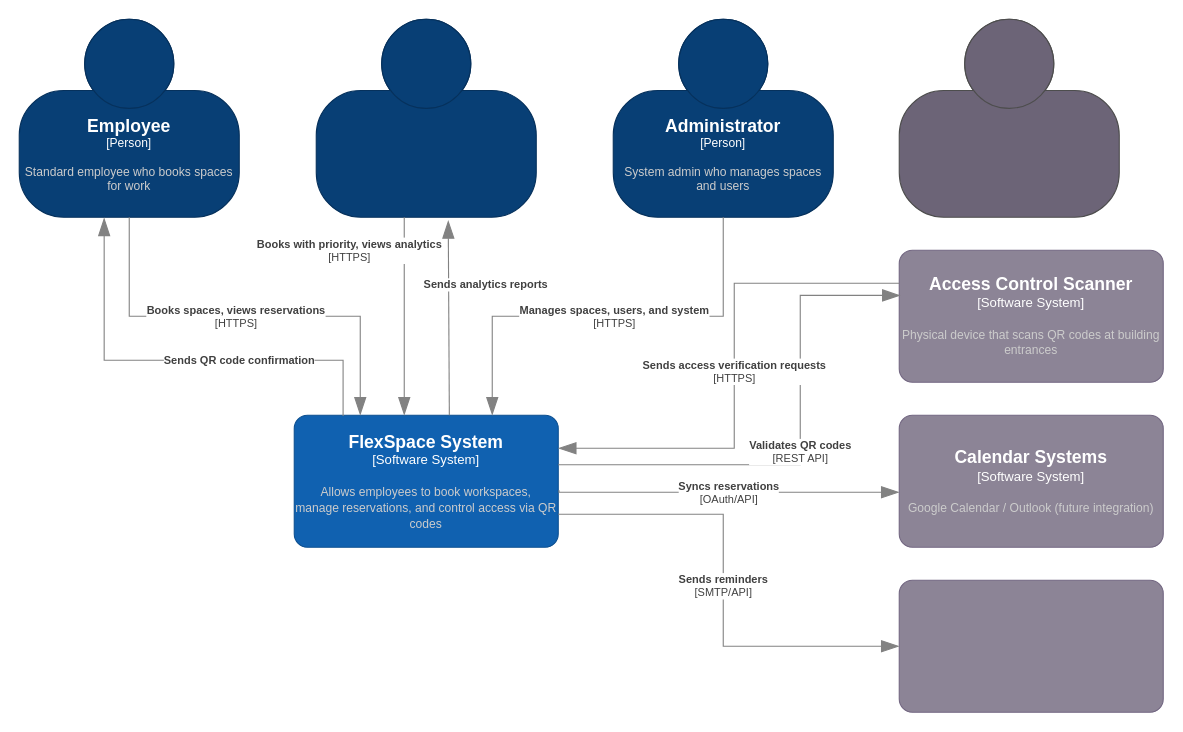
The diagram is 1183 pixels wide and 732 high, and some of its shapes have lost their labels. Each missing label, with the centre of its shape:
"Manager [Person] Manager with priority booking rights" belongs at point (425, 117).
"Notification Services [Software System] Email/SMS providers (future integration)" belongs at point (1030, 645).
"Visitor [Person] Temporary visitor (future feature)" belongs at point (1008, 117).
